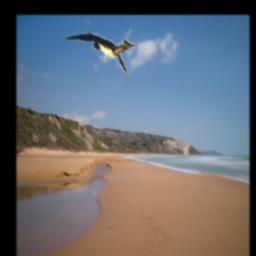Swallow: (64, 29, 152, 78)
